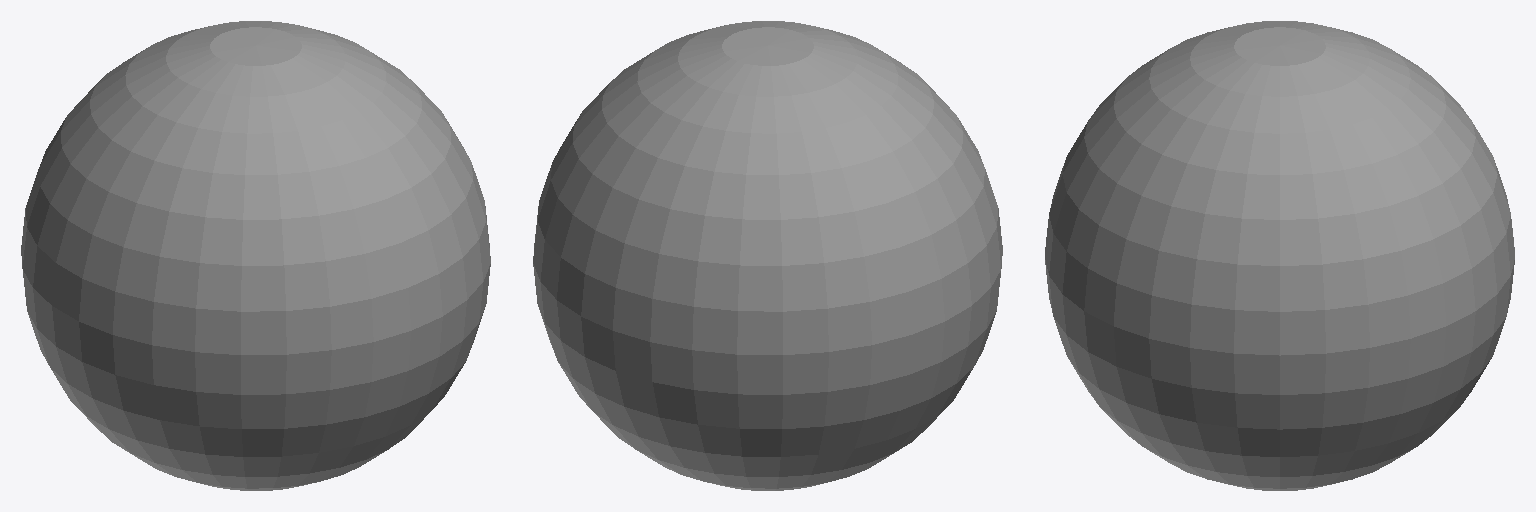
Rendered from sun.obj.
The picture shows the model from 3 angles: view 1: azimuth 30°, elevation 25°; view 2: azimuth 150°, elevation 25°; view 3: azimuth 270°, elevation 25°; orthographic projection.
Visible parts, largest first — view 1: Sphere; view 2: Sphere; view 3: Sphere.
Boxes of the visible parts, x1,y1,x2,y2 form: Sphere: [21, 21, 490, 490]; Sphere: [533, 21, 1002, 490]; Sphere: [1045, 21, 1514, 490].
Size of the model in its own units: 2 by 1.97 by 2.